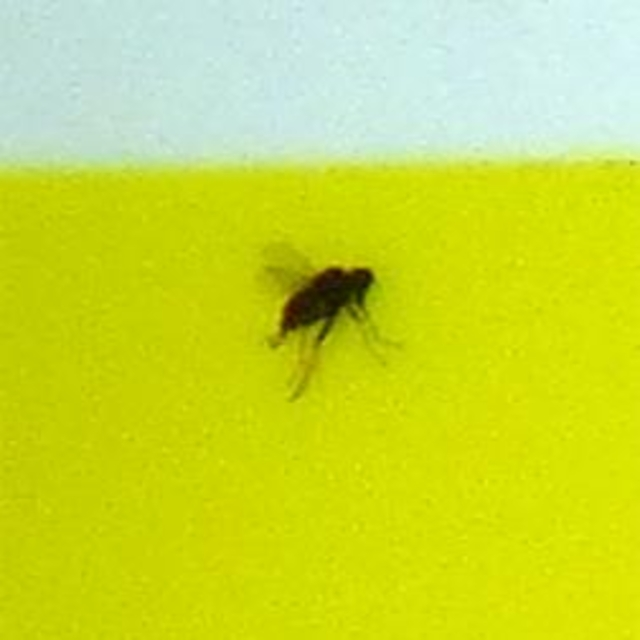Brachycera: (254, 240, 386, 400)
